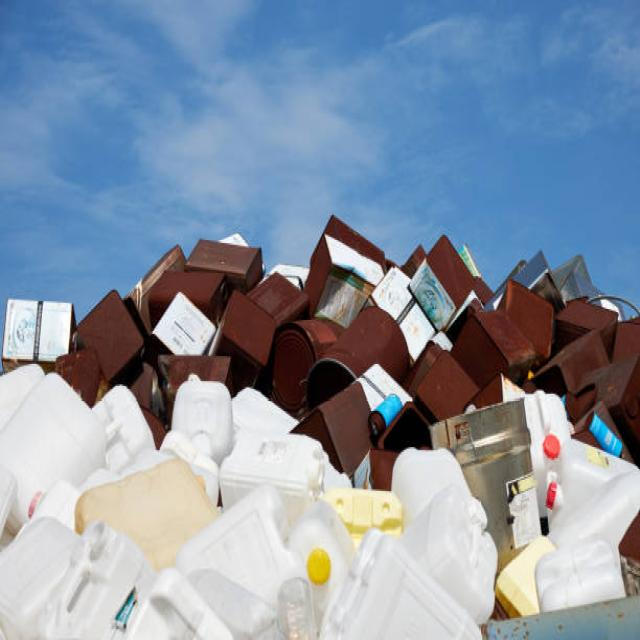metal: (143, 224, 595, 386)
plastic: (18, 390, 410, 640)
